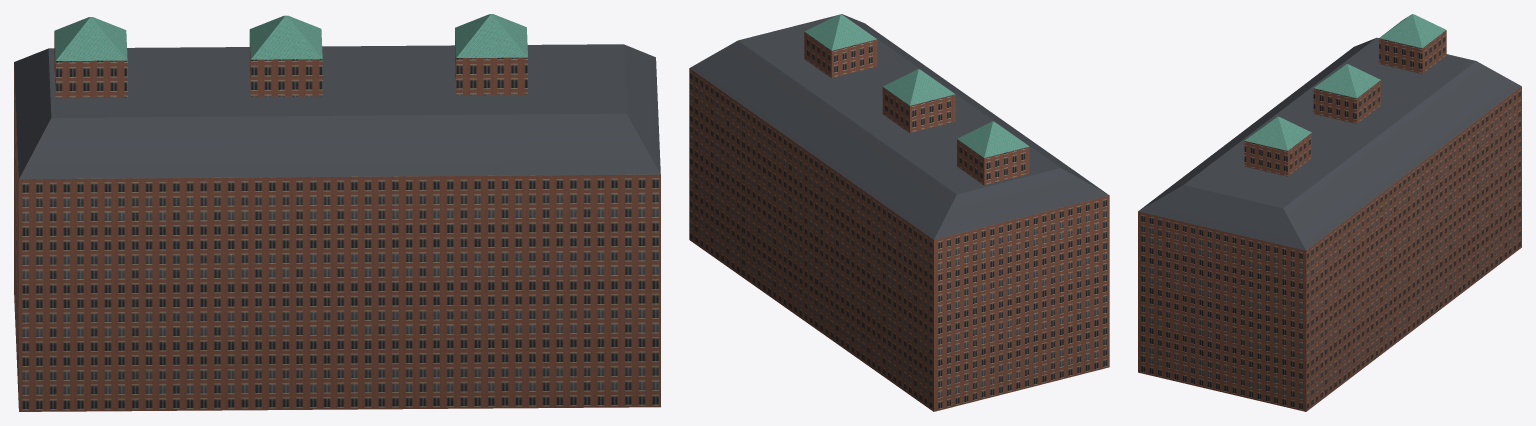
File: waldorf.glb
3 renders of one model, left to right at view 1: azimuth 30°, elevation 25°; view 2: azimuth 150°, elevation 25°; view 3: azimuth 270°, elevation 25°, orthographic. The views are drawn at different scales.
Parts seen in each view (by area): view 1: waldorf; view 2: waldorf; view 3: waldorf.
Part boxes in pixels (x1=…): waldorf: x1=14, y1=14, x2=660, y2=411; waldorf: x1=689, y1=14, x2=1109, y2=411; waldorf: x1=1138, y1=14, x2=1521, y2=411.
Size of the model in its own units: 136 by 72 by 108.
Materials: 16 (14 with a texture image).
